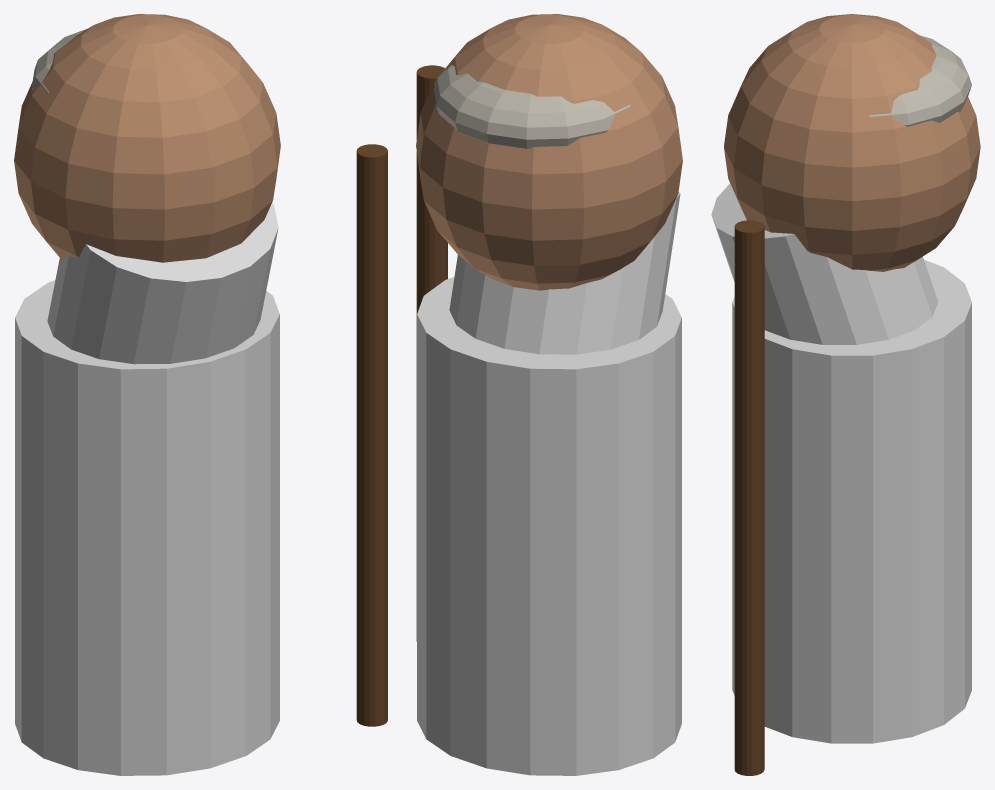
The model's file is elder.b5a53331.glb.
3 renders of one model, left to right at view 1: azimuth 30°, elevation 25°; view 2: azimuth 150°, elevation 25°; view 3: azimuth 270°, elevation 25°, orthographic. The views are drawn at different scales.
Visible parts, largest first — view 1: accent, body; view 2: accent, body; view 3: accent, body.
Boxes of the visible parts, left/top/right/bottom form: accent: left=15, top=203, right=279, bottom=775; body: left=14, top=14, right=387, bottom=726; accent: left=417, top=192, right=681, bottom=775; body: left=416, top=14, right=682, bottom=641; accent: left=711, top=183, right=971, bottom=743; body: left=724, top=14, right=980, bottom=775.
Size of the model in its own units: 0.3872 by 0.8575 by 0.3146.
